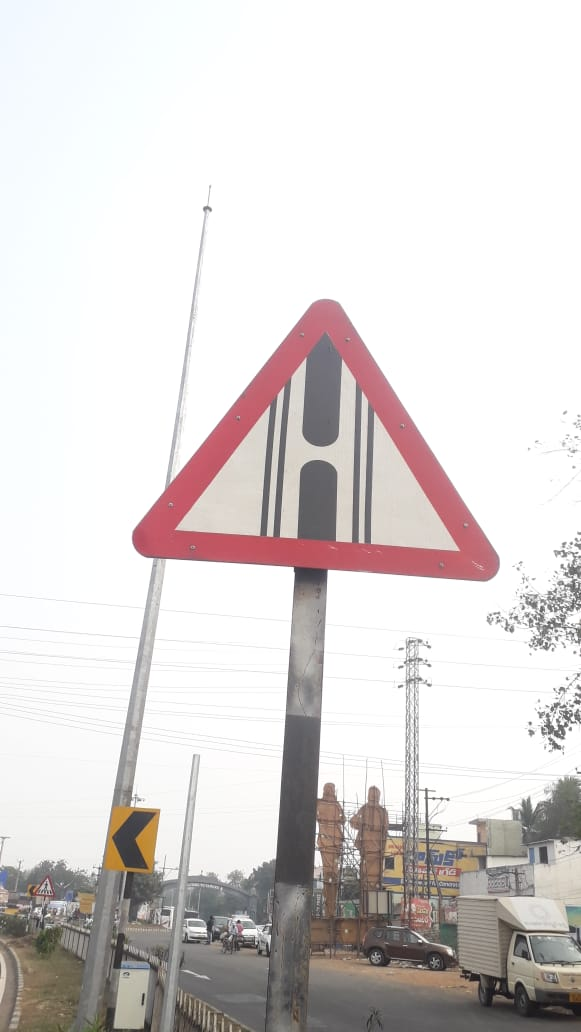highway go straight: (135, 250, 505, 635)
